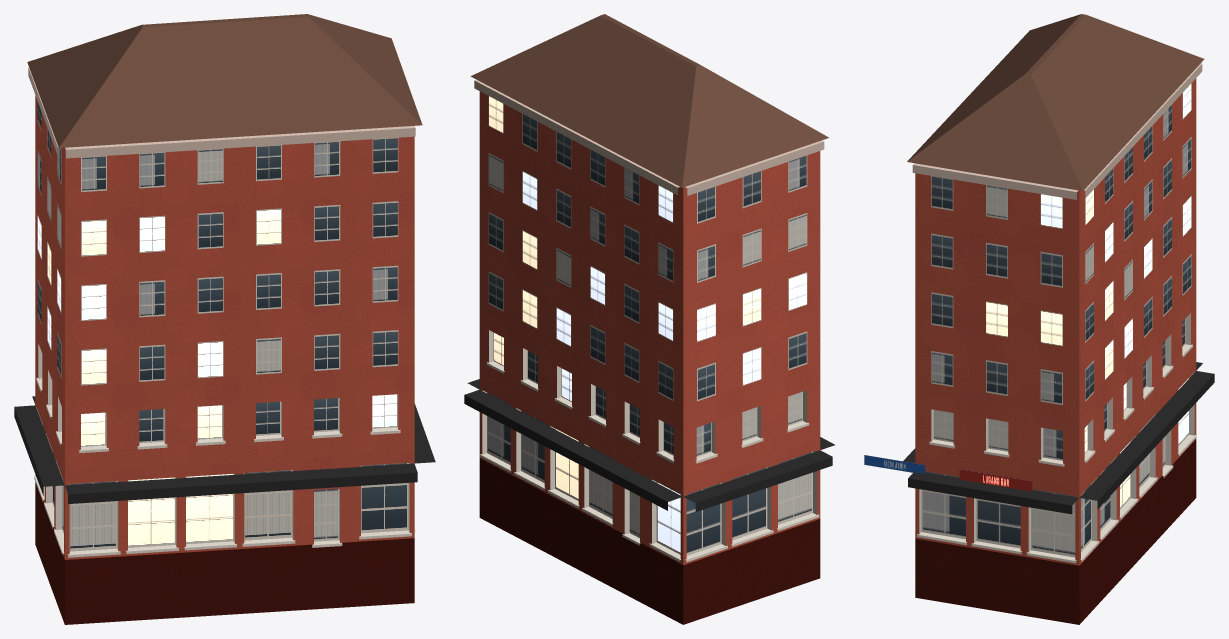
The model's file is langB_lugano.glb.
3 views of the same model, side by side, from view 1: azimuth 30°, elevation 25°; view 2: azimuth 150°, elevation 25°; view 3: azimuth 270°, elevation 25° (orthographic). The views are drawn at different scales.
Parts seen in each view (by area): view 1: langB_lugano; view 2: langB_lugano; view 3: langB_lugano.
Boxes of the visible parts, x1,y1,x2,y2 form: langB_lugano: (14,14,435,624); langB_lugano: (464,14,834,624); langB_lugano: (864,14,1214,624).
Size of the model in its own units: 18.41 by 25.56 by 16.1.
Materials: 3 (3 with a texture image).
